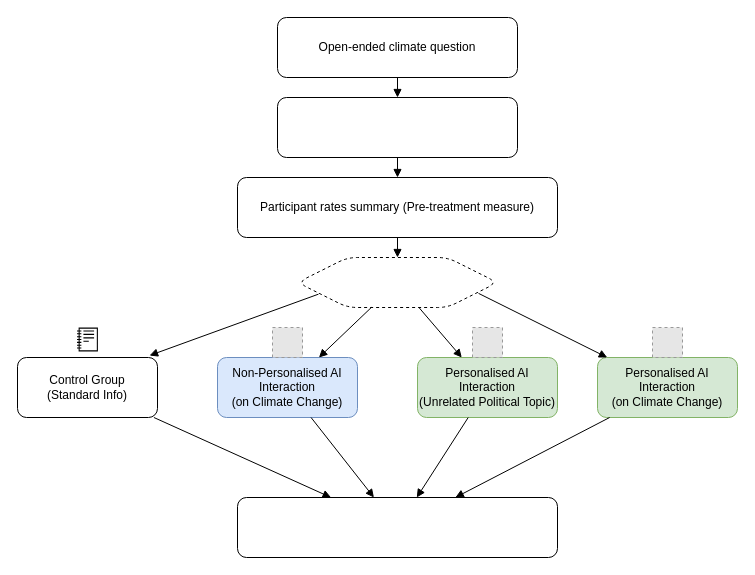
This 755x575 diagram has some shape labels left out. Grey dashed boxes stand in for pictures. The box of each missing label's shape, as (x1, y1, x2, y2) in pixels:
AI generates summary: (276, 96, 518, 158)
Outcome Measures (Post-treatment): (236, 496, 558, 558)
Random Assignment: (296, 256, 498, 308)
